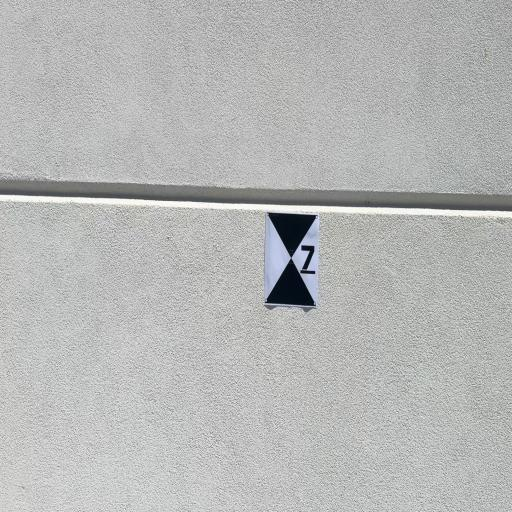target7: (265, 211, 319, 308)
